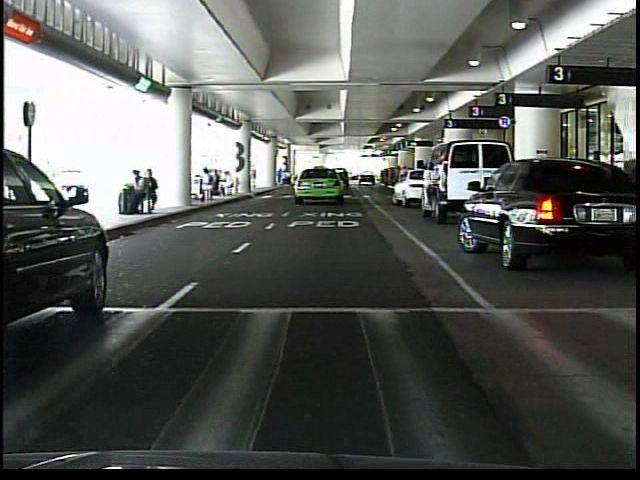person: (577, 148, 606, 210)
